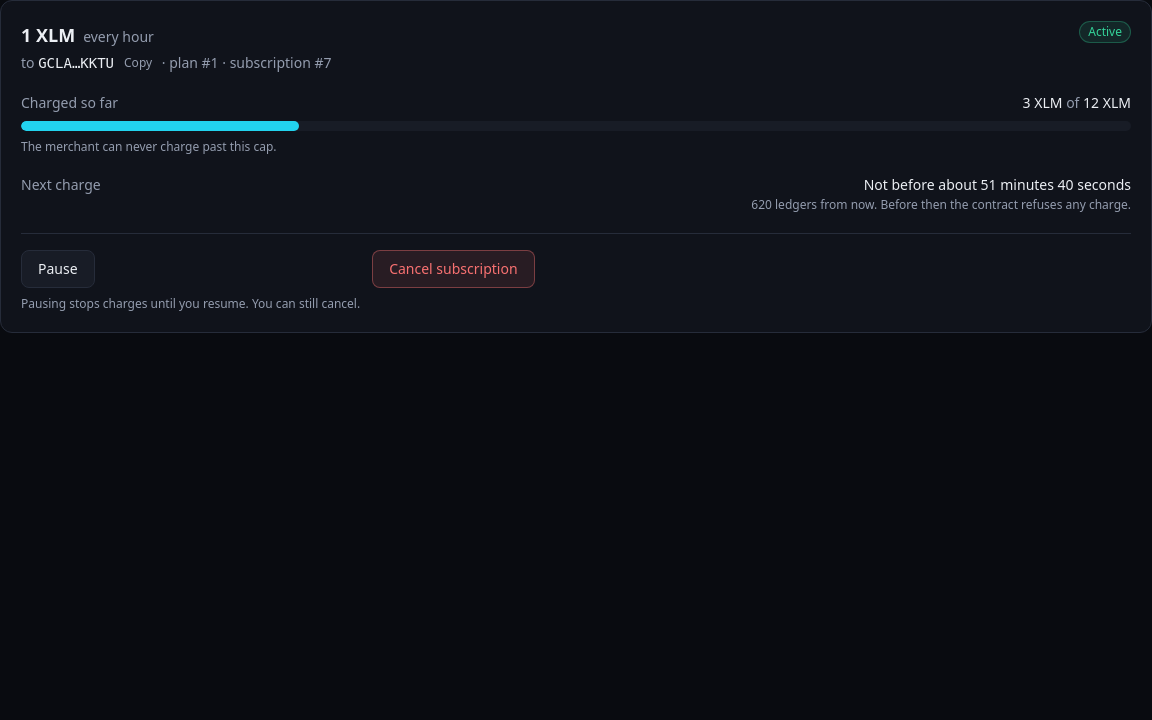
Test: SubscriptionCard › can back out of cancelling without sending anything
This screenshot has width=1152, height=720.
Click the button "Cancel subscription".
click(453, 269)  # box [372,250,534,288]
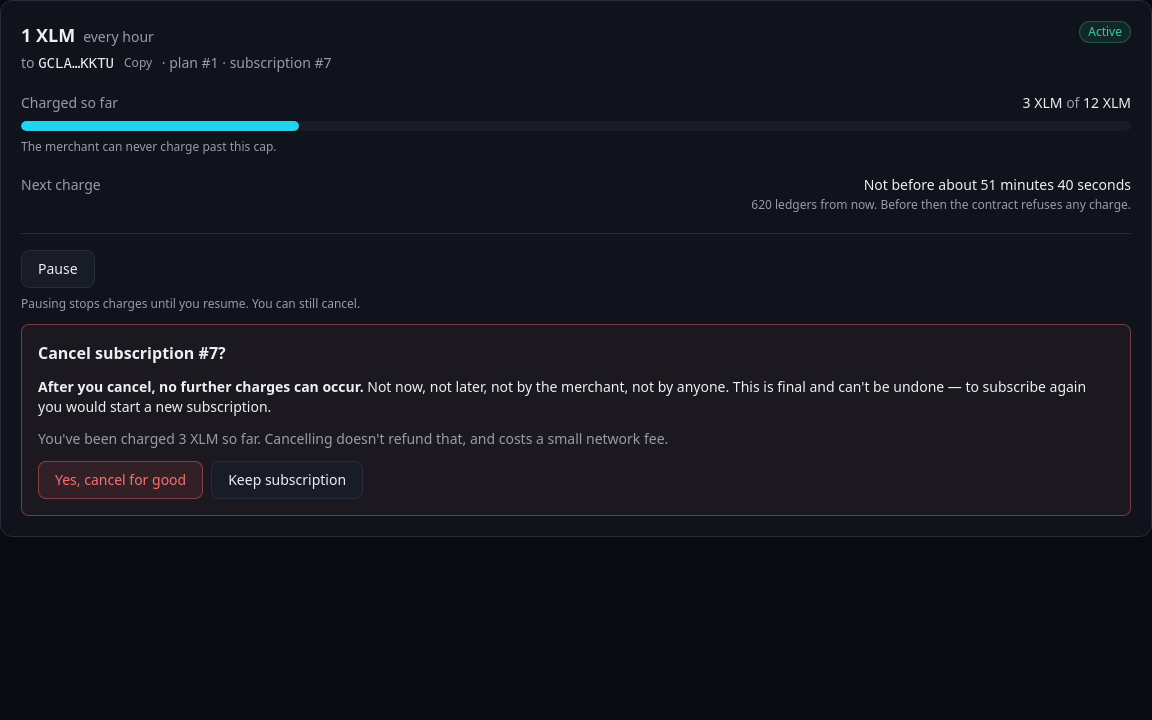
Click the button "Keep subscription".
click(287, 480)  # box [211,461,363,499]
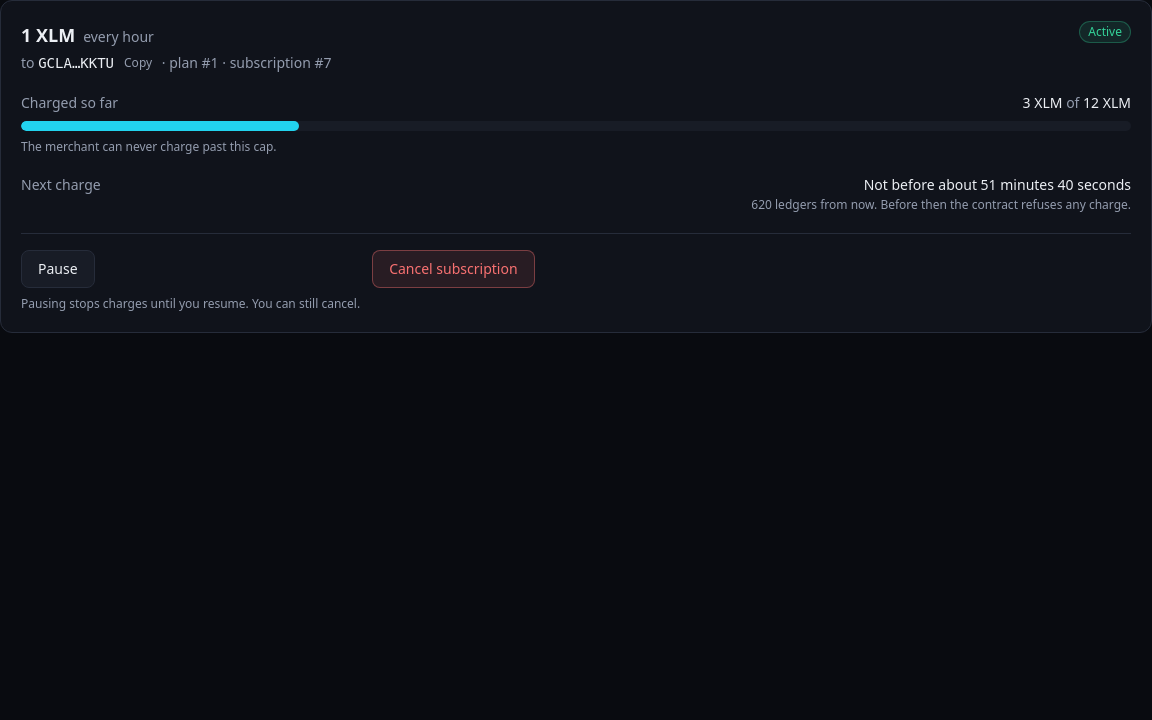
expect the dialog is gone: met
